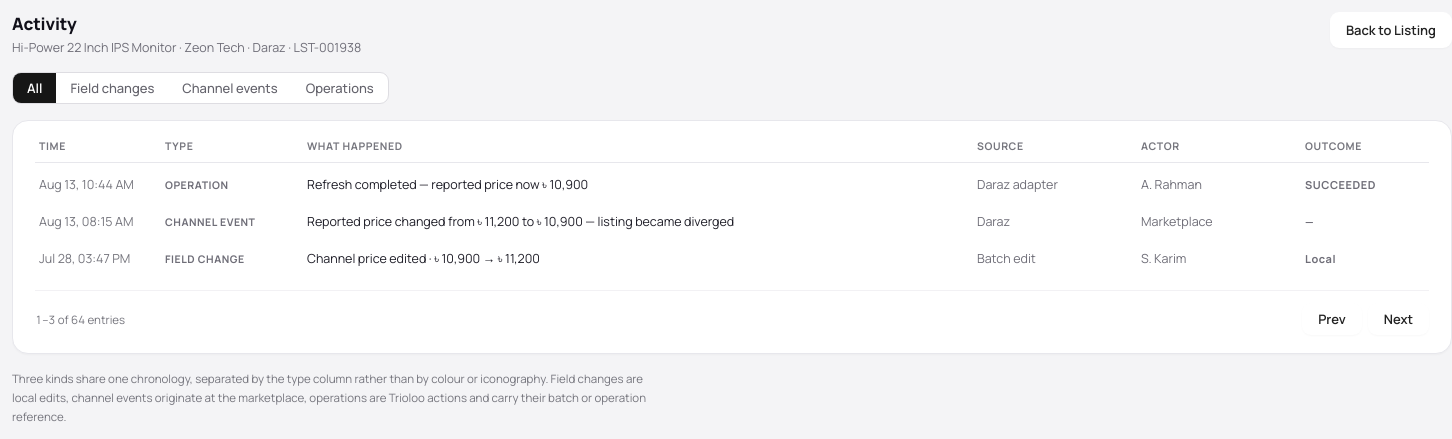
Test case: filters and paging › narrows the chronology to one kind
Expected: the element with test id "activity-row-a-1" is shown, top-left (39, 176), bottom-right (1376, 193)
Click the tab "Field changes".
click(112, 88)  # box top-left (56, 73), bottom-right (168, 103)
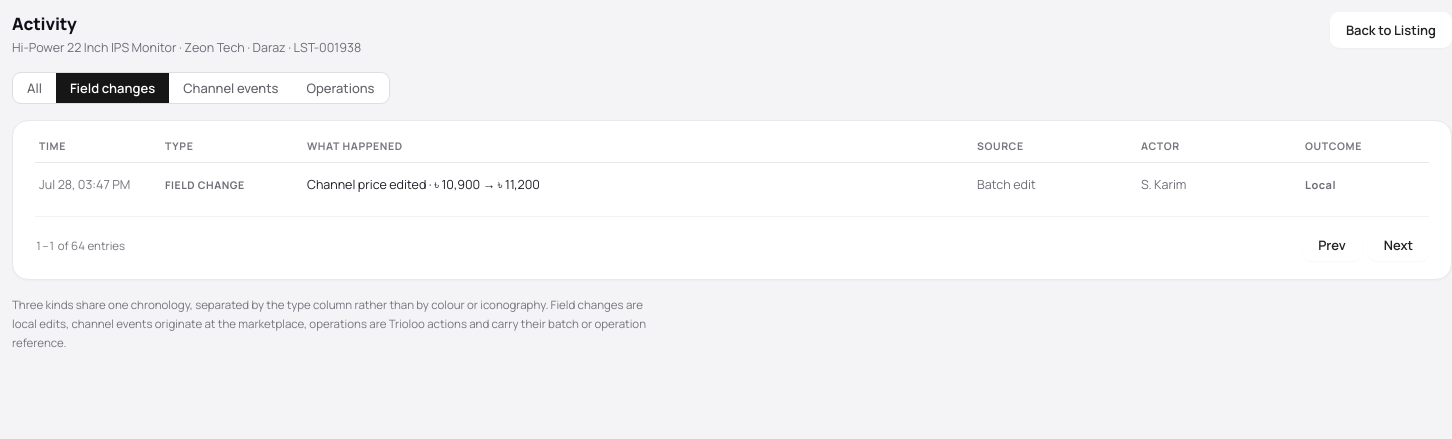
Expected: the element with test id "activity-row-a-3" is shown, top-left (39, 176), bottom-right (1336, 193)
Result: the element with test id "activity-row-a-1" is gone
